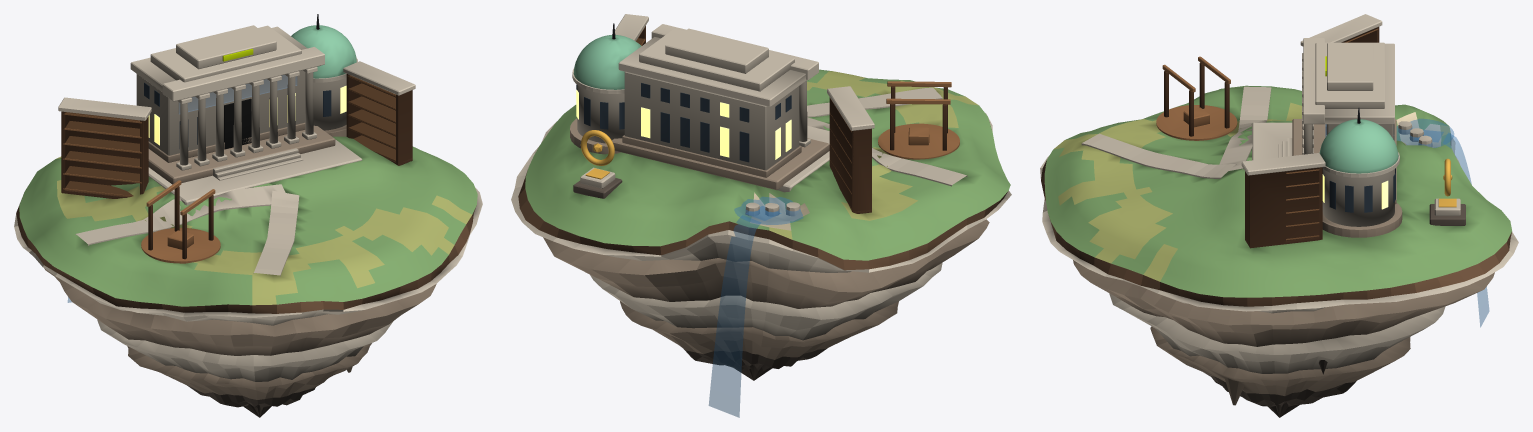
File: blogs_lod1.glb
The picture shows the model from 3 angles, left to right: view 1: azimuth 30°, elevation 25°; view 2: azimuth 150°, elevation 25°; view 3: azimuth 270°, elevation 25°; orthographic projection. The views are drawn at different scales.
Visible parts, largest first — view 1: terrain, buildings, foundation, landmarks; view 2: terrain, foundation, buildings, landmarks, waterfall_0, water_pond0, props, anim_spin_monument_ring; view 3: terrain, foundation, buildings, landmarks, water_pond0, props, waterfall_0.
Boxes of the visible parts, bbox=[...] form: terrain: bbox=[19, 136, 477, 306]; buildings: bbox=[130, 14, 357, 259]; foundation: bbox=[14, 187, 482, 417]; landmarks: bbox=[58, 61, 415, 198]; terrain: bbox=[525, 69, 1010, 260]; foundation: bbox=[511, 113, 1011, 380]; buildings: bbox=[570, 23, 951, 198]; landmarks: bbox=[615, 14, 874, 213]; waterfall_0: bbox=[708, 215, 760, 417]; water_pond0: bbox=[734, 196, 803, 224]; props: bbox=[745, 127, 929, 216]; anim_spin_monument_ring: bbox=[580, 130, 614, 165]; terrain: bbox=[1044, 85, 1511, 297]; foundation: bbox=[1040, 136, 1518, 417]; buildings: bbox=[1162, 38, 1465, 237]; landmarks: bbox=[1241, 14, 1382, 248]; water_pond0: bbox=[1396, 118, 1454, 147]; props: bbox=[1183, 107, 1432, 147]; waterfall_0: bbox=[1443, 133, 1489, 327].
Bounding box in the file's own units: 16.98 × 13.65 × 16.54.
